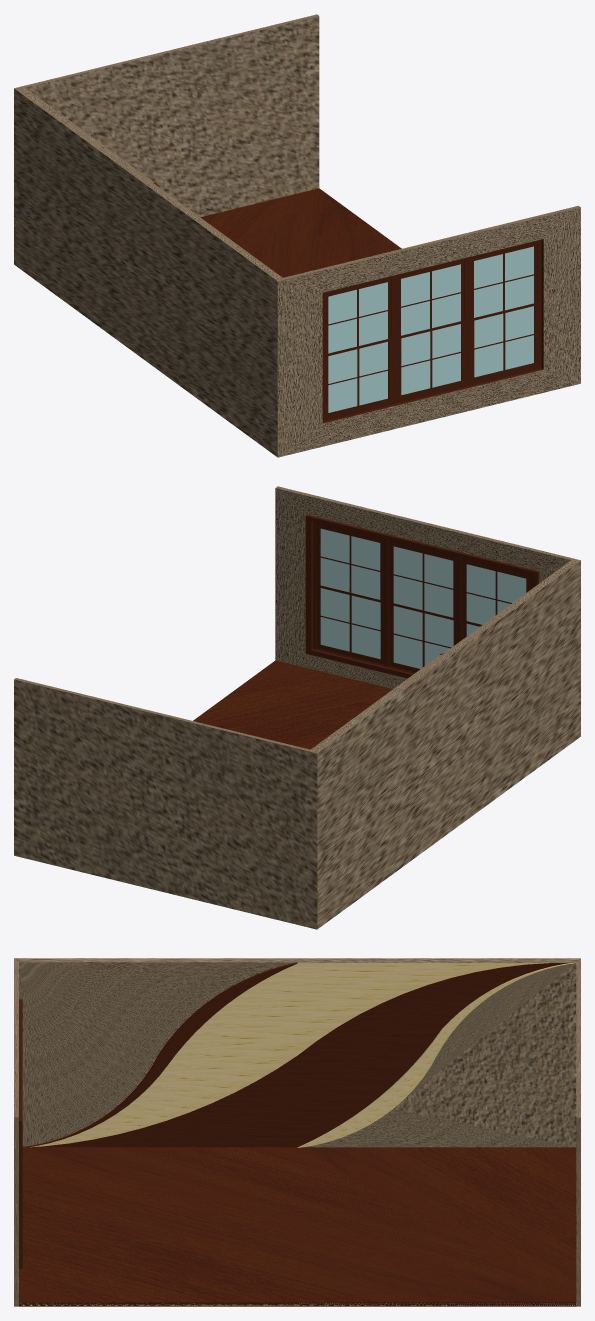
3 views of the same model, one above another, from view 1: azimuth 30°, elevation 25°; view 2: azimuth 150°, elevation 25°; view 3: azimuth 270°, elevation 25° (orthographic). The views are drawn at different scales.
Parts seen in each view (by area): view 1: room05; view 2: room05; view 3: room05.
Part boxes in pixels (x1,y1,x2,y2): room05: (14,14,580,457); room05: (14,486,580,929); room05: (14,958,580,1306).
Size of the model in its own units: 4.37 by 2.43 by 6.59.
